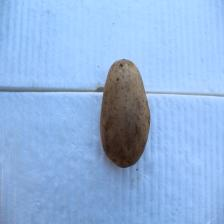Diseased-fungal potato: (98, 54, 152, 171)
